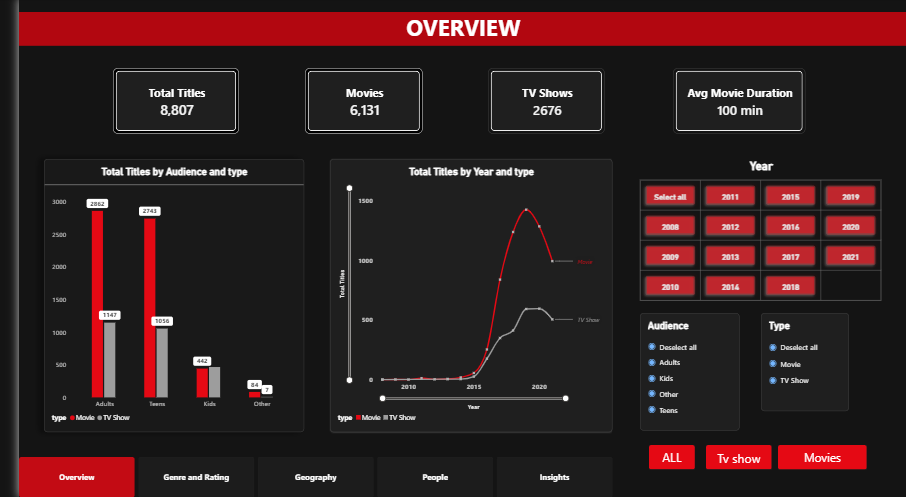

The dashboard page shown, as its layout file describes it:
{"tool":"powerbi","page":{"name":"Overview","canvas":[1920,1080],"ordinal":0},"visuals":[{"type":"cardVisual","fields":{"Data":["_Measures.Movies Display"]},"box":[618,152,254,142],"z":0},{"type":"cardVisual","fields":{"Data":["_Measures.Total Titles Display"]},"box":[202,152,272,142],"z":1000},{"type":"cardVisual","fields":{"Data":["_Measures.TV Shows"]},"box":[1012,152,252,142],"z":2000},{"type":"cardVisual","fields":{"Data":["_Measures.Avg Movie Duration"]},"box":[1412,152,286,142],"z":3000},{"type":"clusteredColumnChart","fields":{"Category":["Titles.Audience"],"Series":["Titles.type"],"Y":["_Measures.Total Titles"]},"box":[55,347.5,561.9,589.6],"z":4000},{"type":"lineChart","fields":{"Category":["Date.Year"],"Series":["Titles.type"],"Y":["_Measures.Total Titles"]},"box":[672.8,347.7,609.8,589.6],"z":5000},{"type":"listSlicer","title":"Type","fields":{"Values":["Titles.type"]},"box":[1602.8,680.8,190,212],"z":6000},{"type":"listSlicer","fields":{"Values":["Titles.Audience"]},"box":[1341.7,680.8,214.8,254.5],"z":7000},{"type":"advancedSlicerVisual","fields":{"Values":["Date.Year"]},"box":[1342,348,524,308],"z":8000},{"type":"textbox","box":[0,30,1920,72.5],"z":9000},{"type":"actionButton","box":[1639.1,965,191.7,52.9],"z":11000},{"type":"actionButton","box":[1483.8,965,142.1,52.9],"z":12000},{"type":"actionButton","box":[1360.6,965,99.1,52.9],"z":13000},{"type":"pageNavigator","box":[0,992.5,1282.5,87.5],"z":13001}]}

Visuals, with their boxes in screenshot pixels (x1, y1, x2, y2), scaled from the page's 1920x1080 canvas onto the 906x497 screenshot:
cardVisual - _Measures.Movies Display: (292,70,411,135)
cardVisual - _Measures.Total Titles Display: (95,70,224,135)
cardVisual - _Measures.TV Shows: (478,70,596,135)
cardVisual - _Measures.Avg Movie Duration: (666,70,801,135)
clusteredColumnChart - Titles.Audience x Titles.type: (26,160,291,431)
lineChart - Date.Year x Titles.type: (317,160,605,431)
"Type" listSlicer: (756,313,846,411)
listSlicer - Titles.Audience: (633,313,734,430)
advancedSlicerVisual - Date.Year: (633,160,881,302)
textbox: (0,14,905,47)
actionButton: (773,444,864,468)
actionButton: (700,444,767,468)
actionButton: (642,444,689,468)
pageNavigator: (0,457,605,496)
